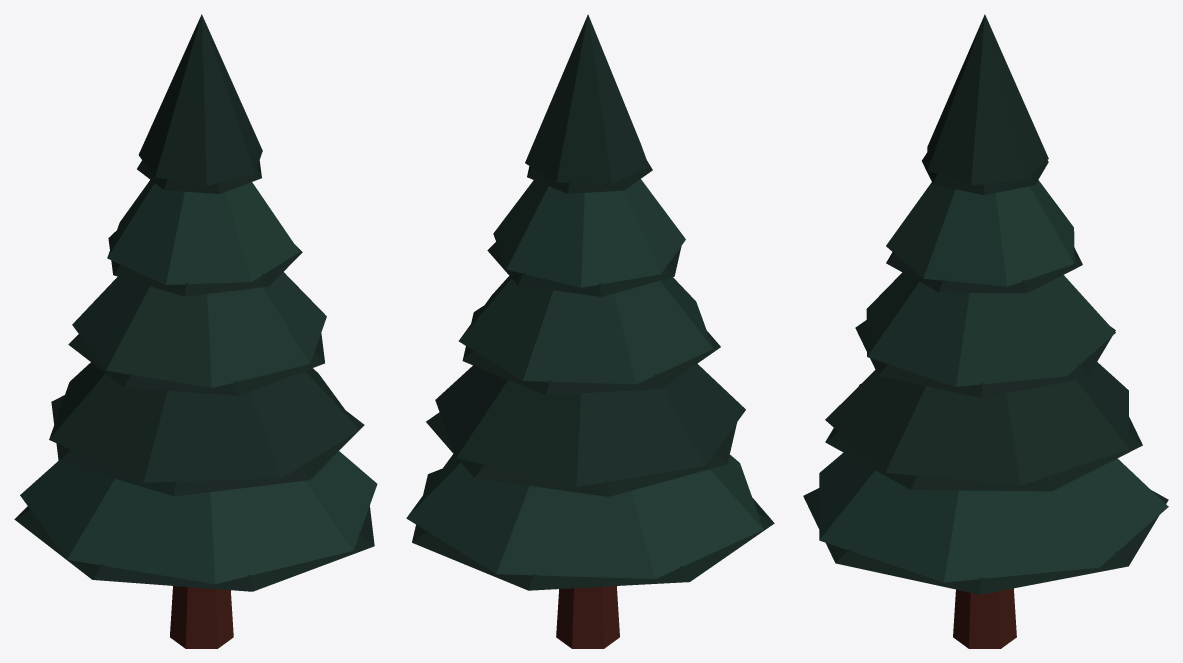
File: pine_dark.glb
3 renders of one model, left to right at view 1: azimuth 30°, elevation 25°; view 2: azimuth 150°, elevation 25°; view 3: azimuth 270°, elevation 25°, orthographic.
Parts seen in each view (by area): view 1: pine_d45, pine_d60, pine_d50, pine_d68, coal_d60; view 2: pine_d45, pine_d60, pine_d50, pine_d68, coal_d60; view 3: pine_d45, pine_d60, pine_d50, pine_d68, coal_d60.
Part boxes in pixels (x1,y1,x2,y2): pine_d45: (20,180,377,584); pine_d60: (49,14,359,482); pine_d50: (72,272,326,387); pine_d68: (14,159,374,591); coal_d60: (170,586,233,648); pine_d45: (406,179,763,579); pine_d60: (435,14,745,487); pine_d50: (458,276,713,384); pine_d68: (412,161,774,590); coal_d60: (556,586,619,648); pine_d45: (819,180,1168,582); pine_d60: (825,14,1128,485); pine_d50: (866,272,1115,386); pine_d68: (803,152,1168,594); coal_d60: (953,588,1016,648).
Size of the model in its own units: 2.29 by 4.3 by 2.29.
